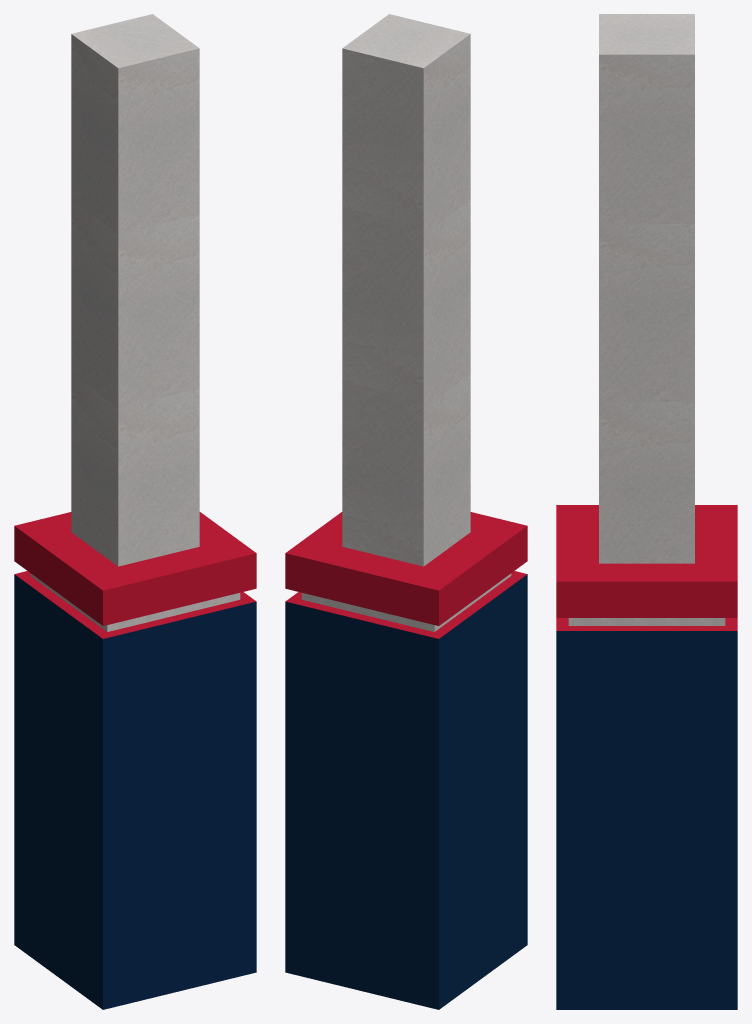
Rendered from extension_Pillar.fbx.
3 renders of one model, left to right at view 1: azimuth 30°, elevation 25°; view 2: azimuth 150°, elevation 25°; view 3: azimuth 270°, elevation 25°, orthographic. The views are drawn at different scales.
Visible parts, largest first — view 1: extension_pillar; view 2: extension_pillar; view 3: extension_pillar.
Boxes of the visible parts, box(x1,y1,x2,y2) form: extension_pillar: box(14, 14, 256, 1009); extension_pillar: box(285, 14, 527, 1009); extension_pillar: box(556, 14, 737, 1009).
Size of the model in its own units: 72.92 by 416 by 72.92.
